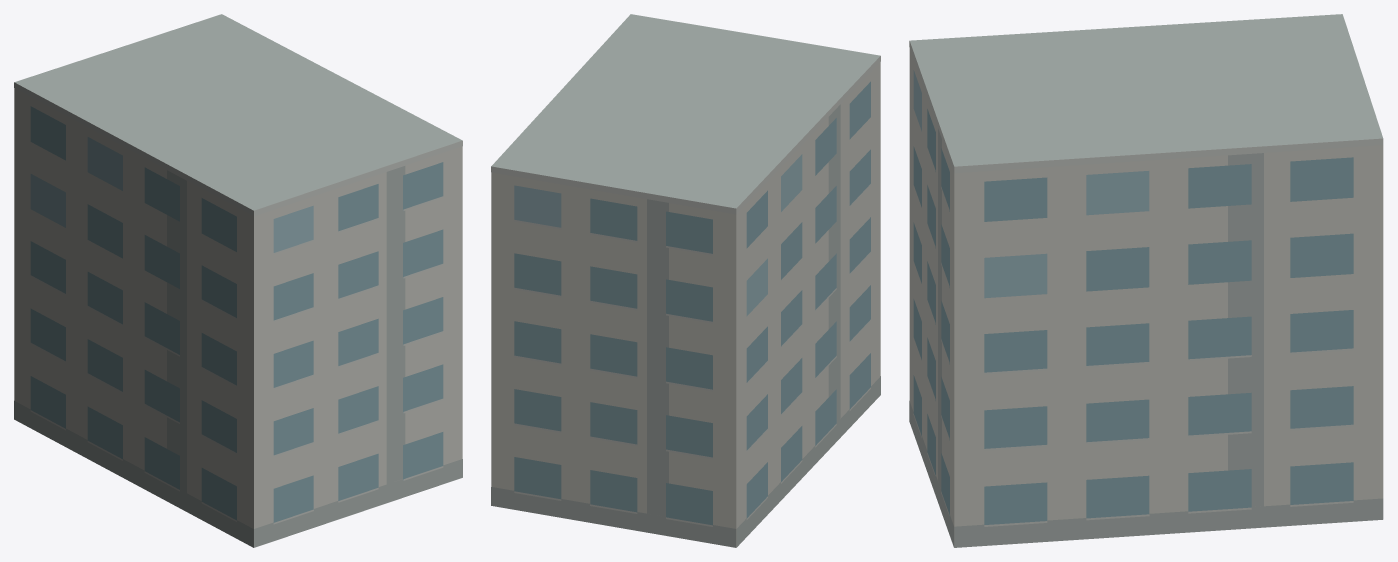
File: survey-upis-32943622.glb
3 renders of one model, left to right at view 1: azimuth 30°, elevation 25°; view 2: azimuth 150°, elevation 25°; view 3: azimuth 270°, elevation 25°, orthographic. The views are drawn at different scales.
Parts seen in each view (by area): view 1: survey-upis-32943622.tmp; view 2: survey-upis-32943622.tmp; view 3: survey-upis-32943622.tmp.
Part boxes in pixels (<box>): survey-upis-32943622.tmp: <box>14,14,462,547</box>; survey-upis-32943622.tmp: <box>491,14,880,547</box>; survey-upis-32943622.tmp: <box>909,14,1383,547</box>.
Bounding box in the file's own units: 11.95 × 13.9 × 15.67.
